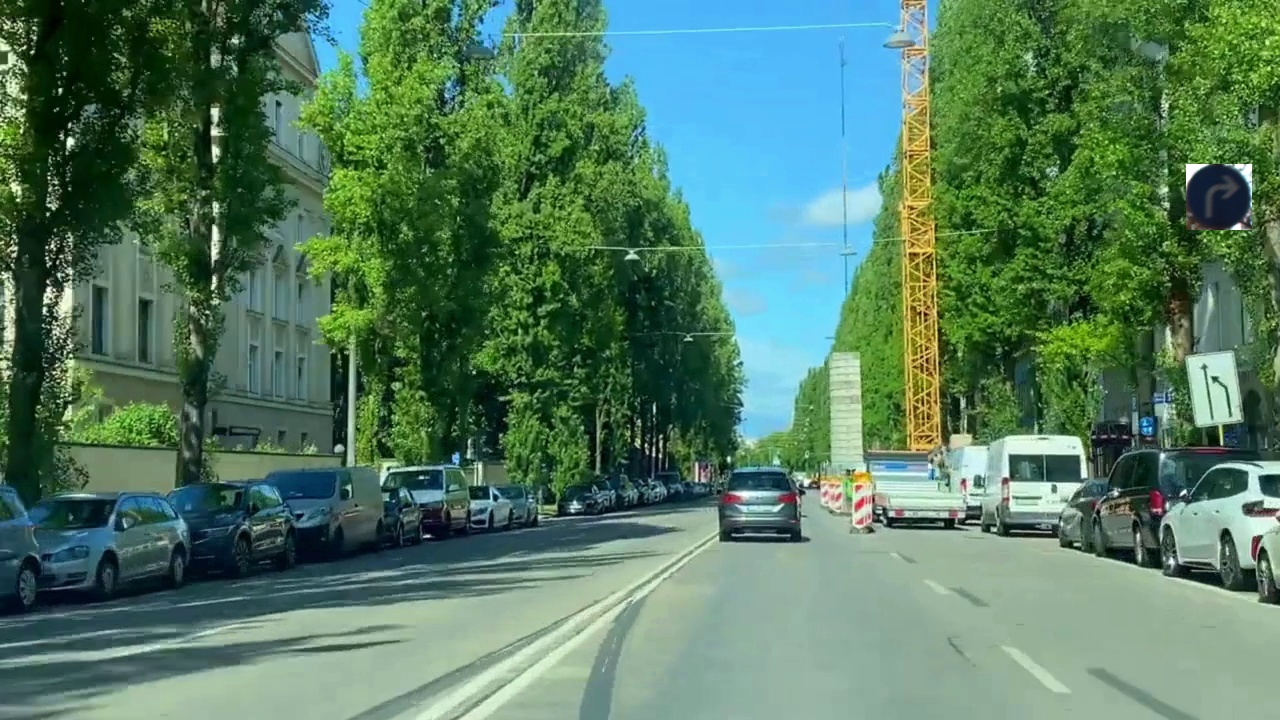Turn right: (1186, 164, 1252, 230)
